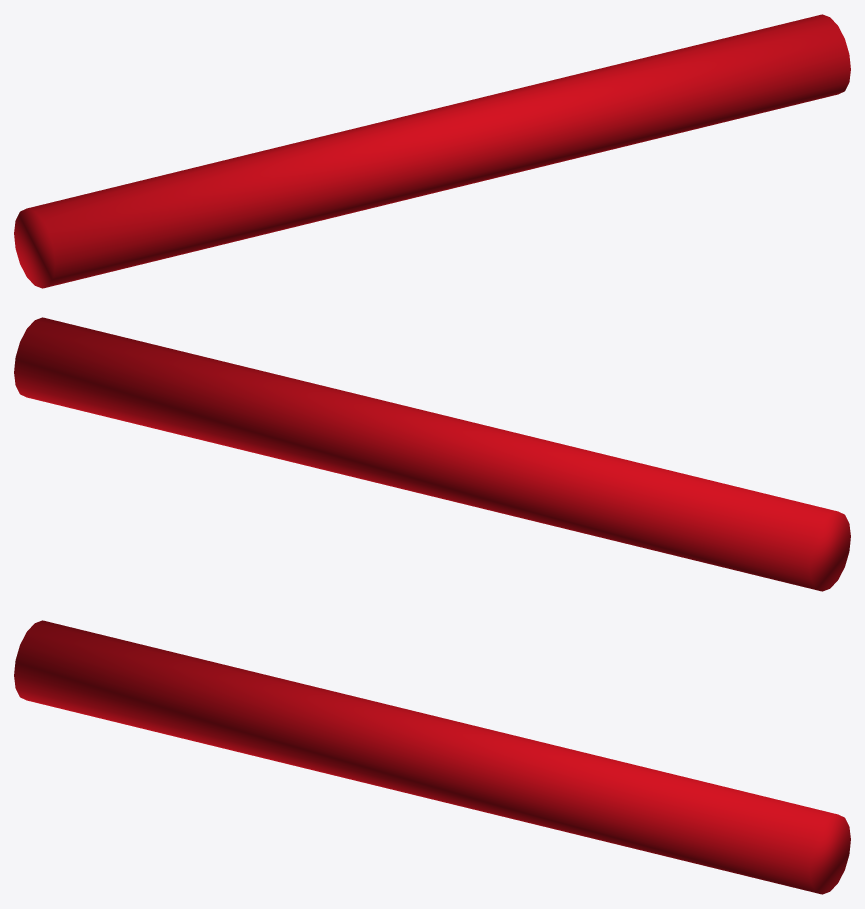
File: cable6.glb
3 views of the same model, one above another, from view 1: azimuth 30°, elevation 25°; view 2: azimuth 150°, elevation 25°; view 3: azimuth 330°, elevation 25° (orthographic).
Parts seen in each view (by area): view 1: cable6; view 2: cable6; view 3: cable6.
Boxes of the visible parts, box(x1,y1,x2,y2) form: cable6: box(14, 14, 850, 288); cable6: box(14, 317, 850, 591); cable6: box(14, 620, 850, 894).
Bounding box in the file's own units: 2 × 0.1783 × 0.18.
